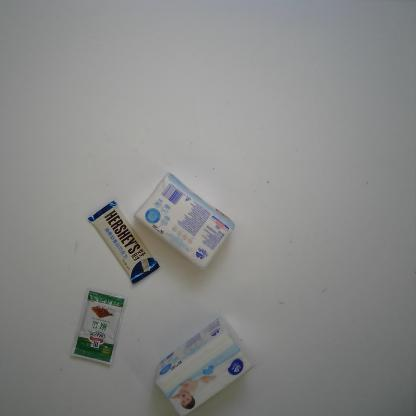Chocolate: (86, 198, 161, 286)
Seasoner: (68, 286, 128, 366)
Tissue: (132, 170, 235, 272), (154, 315, 256, 416)
